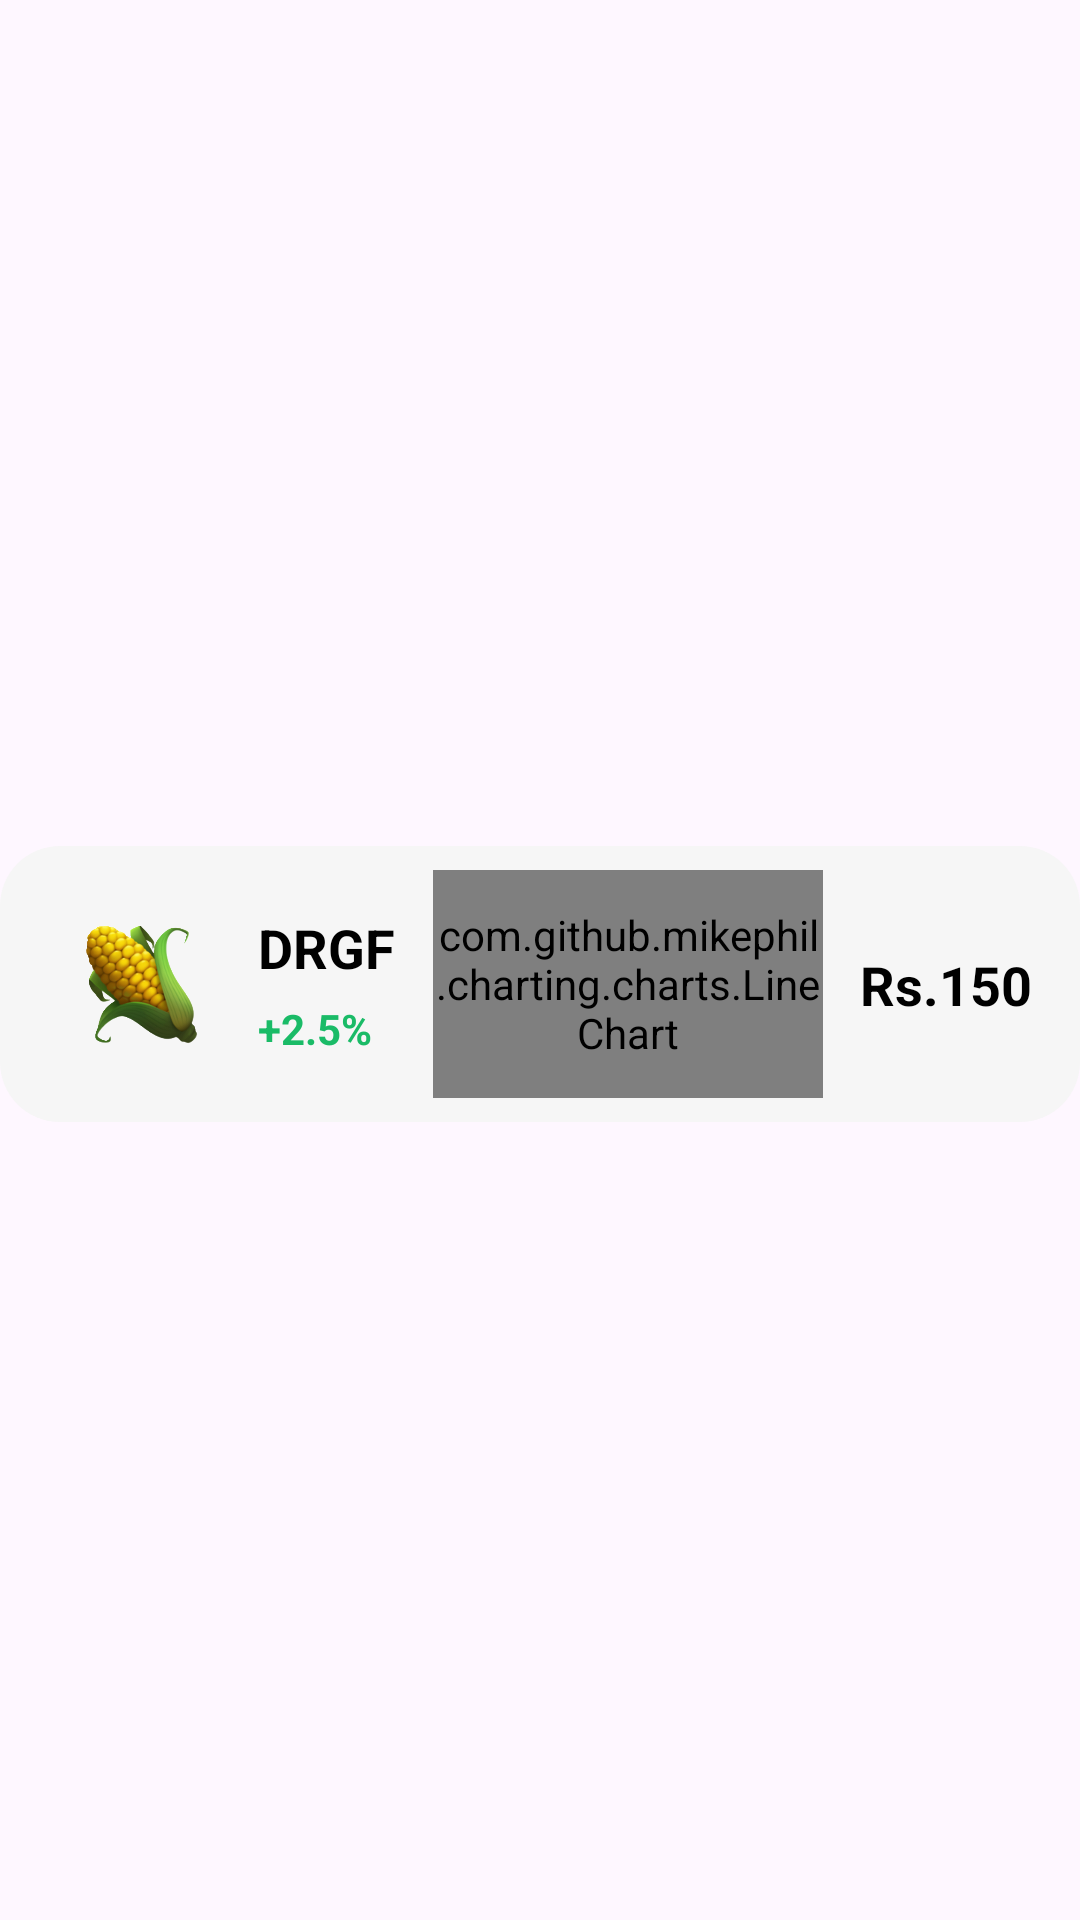

Where to tap for icons on this 1080px×1920px app screen, as [x,y]:
corn: [141,984]
